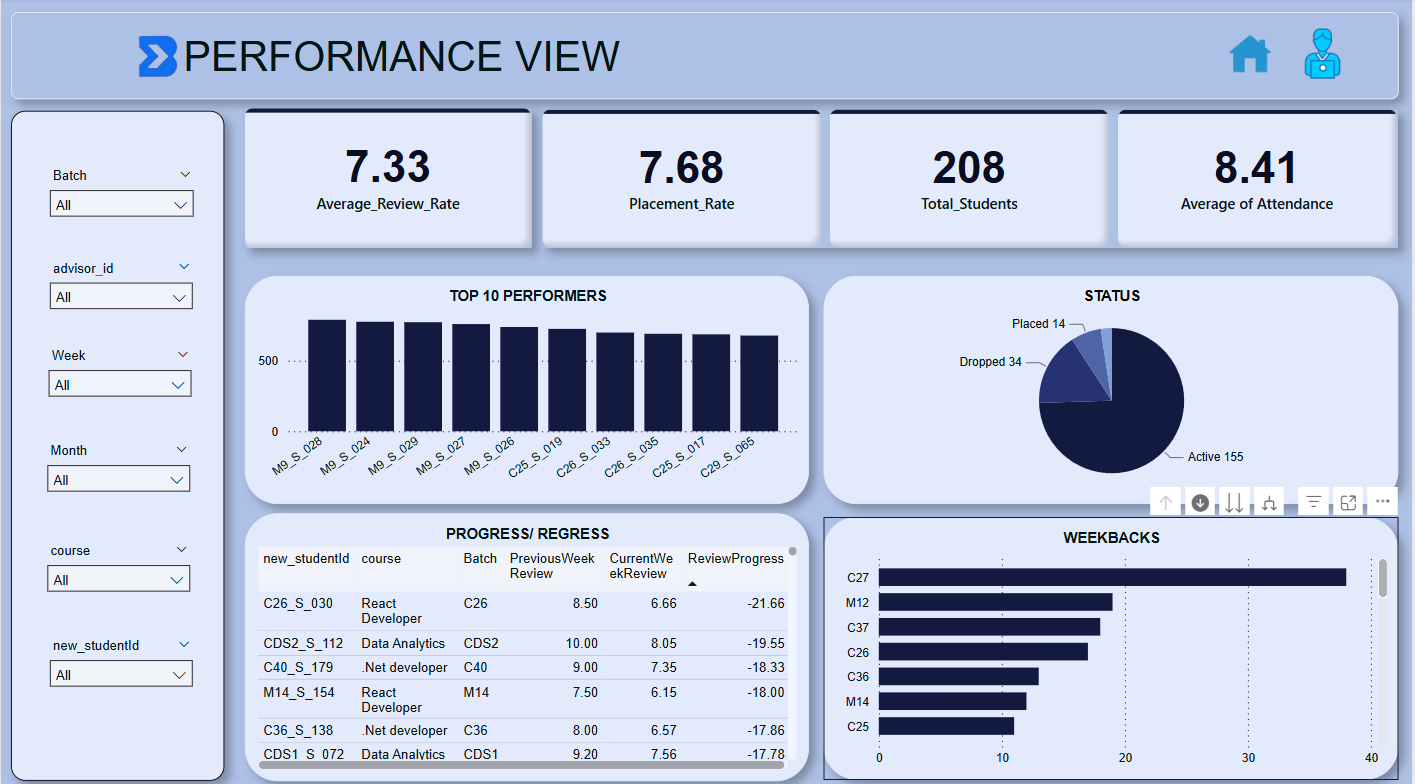

This screenshot's page, from the dashboard's own definition file:
{"tool":"powerbi","page":{"name":"Performance Analysis Dashboard","canvas":[1280,720],"ordinal":1},"visuals":[{"type":"shape","box":[9.6,102.9,193.5,607.9],"z":0},{"type":"slicer","fields":{"Values":["public main_table.Batch"]},"box":[29.5,164.5,162.2,76],"z":1000},{"type":"shape","box":[9.1,13.6,1259,79.4],"z":2000},{"type":"slicer","fields":{"Values":["public advisor.advisor_id"]},"box":[29.5,263.1,161.1,76],"z":3000},{"type":"slicer","fields":{"Values":["public main_table.Week"]},"box":[29.5,356.1,161.1,74.9],"z":4000},{"type":"slicer","fields":{"Values":["public main_table.Joining_Date.Variation.Date Hierarchy.Month"]},"box":[29.5,460.5,161.1,74.9],"z":5000},{"type":"slicer","fields":{"Values":["public course_table.course"]},"box":[26.1,552.4,161.1,76],"z":6000},{"type":"cardVisual","fields":{"Data":["public advisor.Total_Students","Avg(public main_table.Attendance)","public advisor.Average_Review_Rate"]},"box":[221.2,102.1,1046.9,138.4],"z":8000},{"type":"pieChart","title":"STATUS","fields":{"Category":["public main_table.status"],"Y":["public advisor.Total_Students"]},"box":[746.5,252.5,521.4,207.2],"z":9000},{"type":"columnChart","title":"TOP 10 PERFORMERS","fields":{"Category":["public main_table.new_studentId"],"Y":["public advisor.Total_Performance_Score"]},"box":[220.9,252.5,511.8,207.2],"z":10000},{"type":"barChart","title":"WEEKBACKS ","fields":{"Y":["public advisor.Total Weekbacks"],"Category":["public main_table.Batch","public main_table.new_studentId"]},"box":[746.5,472,521.4,238.8],"z":11000},{"type":"textbox","box":[165.6,32.9,417.4,52.2],"z":12000},{"type":"tableEx","title":"PROGRESS/ REGRESS","fields":{"Values":["public main_table.new_studentId","public course_table.course","public main_table.Batch","public advisor.PreviousWeekReview","public advisor.CurrentWeekReview","public advisor.ReviewProgress"]},"box":[220.9,467.9,511.8,242.9],"z":13000},{"type":"image","box":[1099.1,17,69.2,68.1],"z":14000},{"type":"image","box":[1152.4,18.1,93,65.8],"z":15000},{"type":"image","box":[107.2,19.8,68.7,73.4],"z":17000}]}

Visuals, with their boxes in screenshot pixels (x1, y1, x2, y2), scaled from the page's 1280x720 canvas onto the 1415x784 screenshot:
shape: [11,112,225,774]
slicer - public main_table.Batch: [33,179,212,262]
shape: [10,15,1402,101]
slicer - public advisor.advisor_id: [33,286,211,369]
slicer - public main_table.Week: [33,388,211,469]
slicer - public main_table.Joining_Date.Variation.Date Hierarchy.Month: [33,501,211,583]
slicer - public course_table.course: [29,602,207,684]
cardVisual - public advisor.Total_Students x Avg(public main_table.Attendance): [245,111,1402,262]
"STATUS" pieChart: [825,275,1402,501]
"TOP 10 PERFORMERS" columnChart: [244,275,810,501]
"WEEKBACKS " barChart: [825,514,1402,774]
textbox: [183,36,644,93]
"PROGRESS/ REGRESS" tableEx: [244,509,810,774]
image: [1215,19,1292,93]
image: [1274,20,1377,91]
image: [119,22,194,101]
